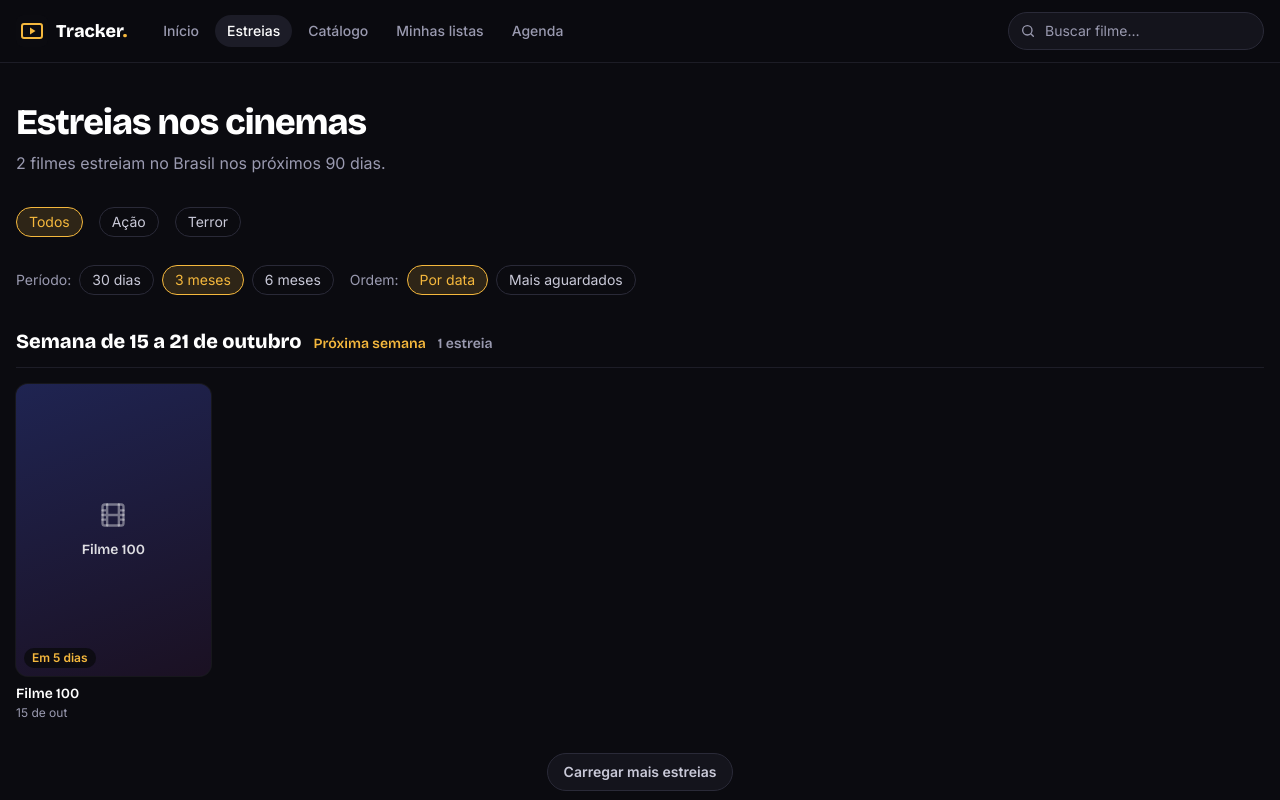
Scenario: Estreias › carrega a próxima página ao clicar em "Carregar mais"
expect the heading "Filme 100" is shown: met, box [16, 685, 79, 702]
Click the button "Carregar mais estreias": (640, 772) [547, 753, 733, 791]
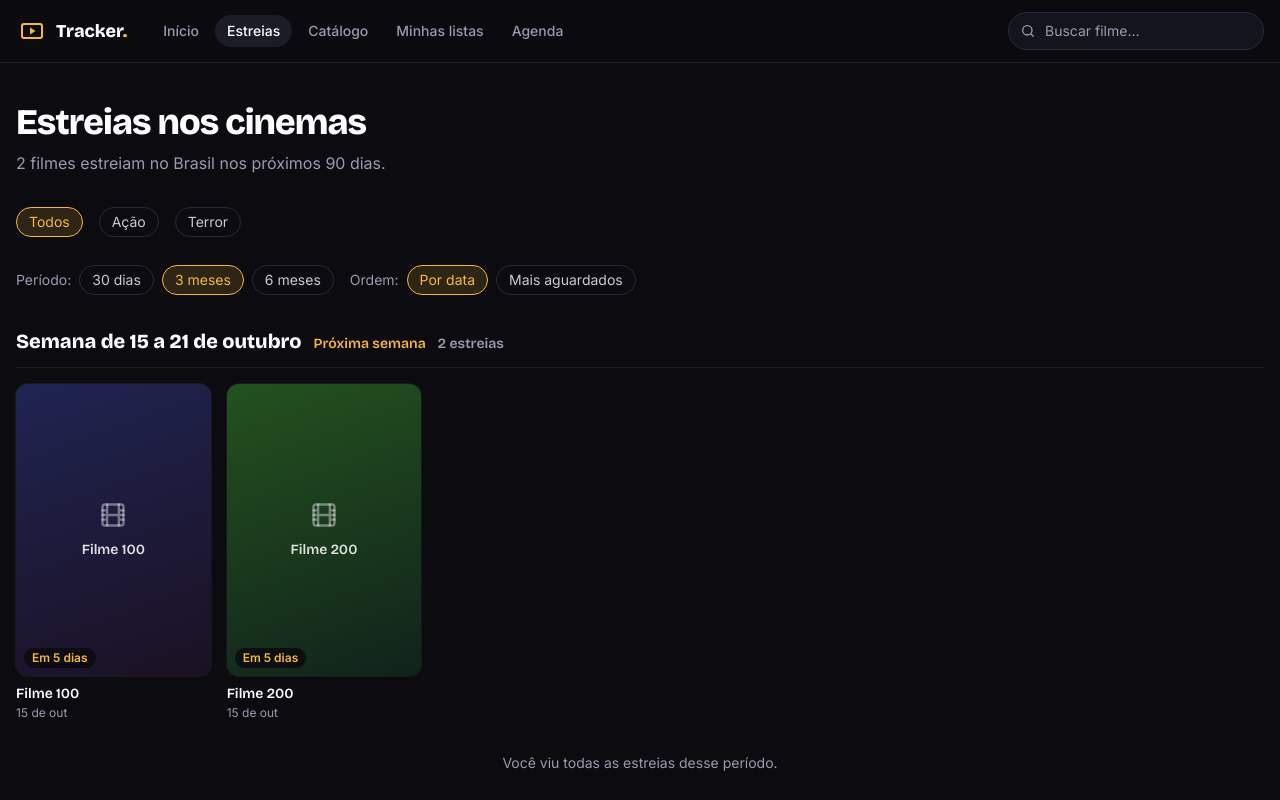
expect the heading "Filme 200" is shown: met, box [227, 685, 294, 702]
expect the text "Você viu todas as estreias desse período." is shown: met, box [502, 754, 778, 771]
